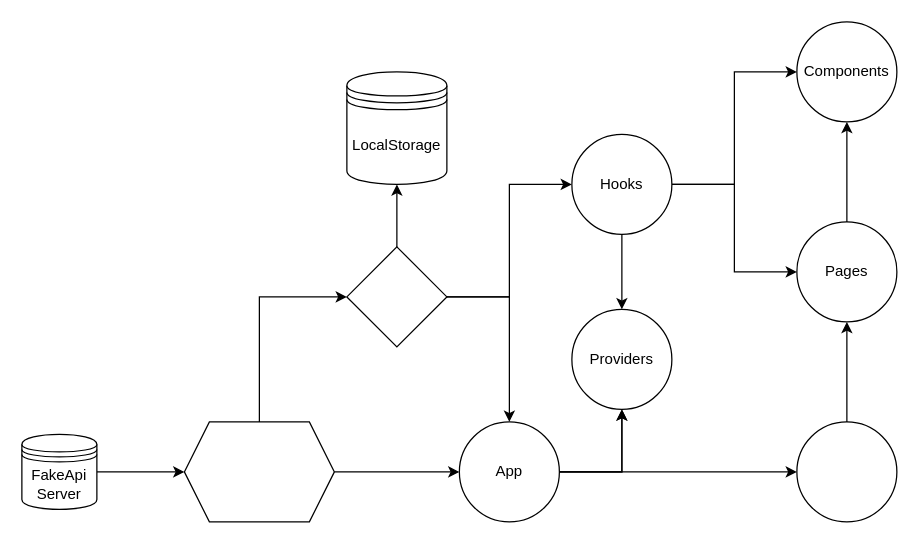
The diagram is 919 pixels wide and 544 high, and some of its shapes have lost their labels. The shapes that lost their labels are listed below. From the top down, each one's centre as x and y in pixels, then its label:
At pixel 396 296: "Reducer".
At pixel 258 471: "RTK Query Api".
At pixel 846 471: "Router".
